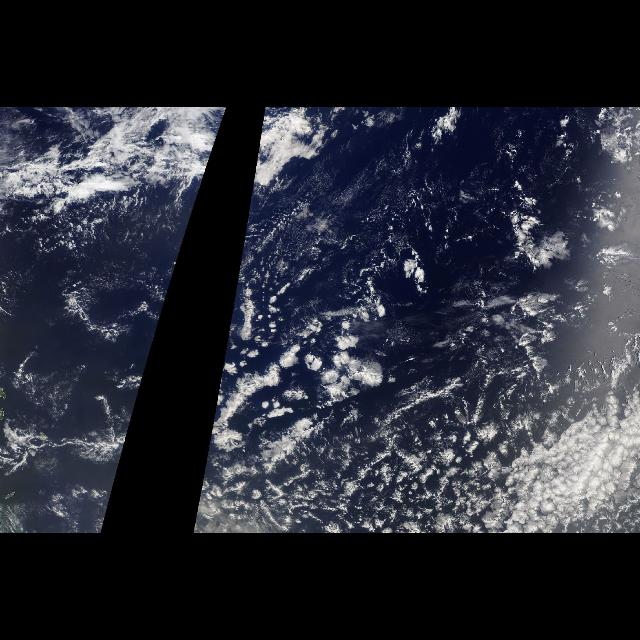Gravel: (264, 418, 566, 528)
Sugar: (229, 183, 466, 321), (44, 183, 202, 321)
